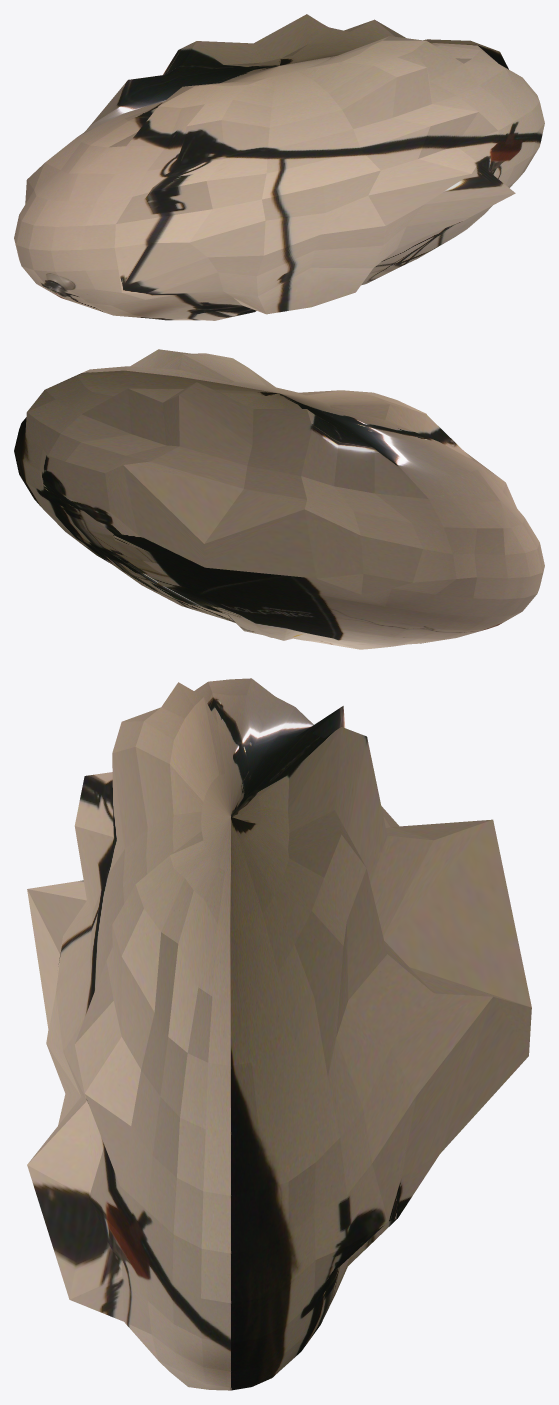
Rendered from emptiness4.glb.
3 views of the same model, one above another, from view 1: azimuth 30°, elevation 25°; view 2: azimuth 150°, elevation 25°; view 3: azimuth 270°, elevation 25° (orthographic). The views are drawn at different scales.
Visible parts, largest first — view 1: Sphere; view 2: Sphere; view 3: Sphere.
Part boxes in pixels (x1,y1,x2,y2): Sphere: (14, 14, 544, 320); Sphere: (14, 349, 544, 649); Sphere: (27, 678, 531, 1390).
Size of the model in its own units: 10.25 by 4.77 by 4.26.
Materials: 1 (1 with a texture image).
